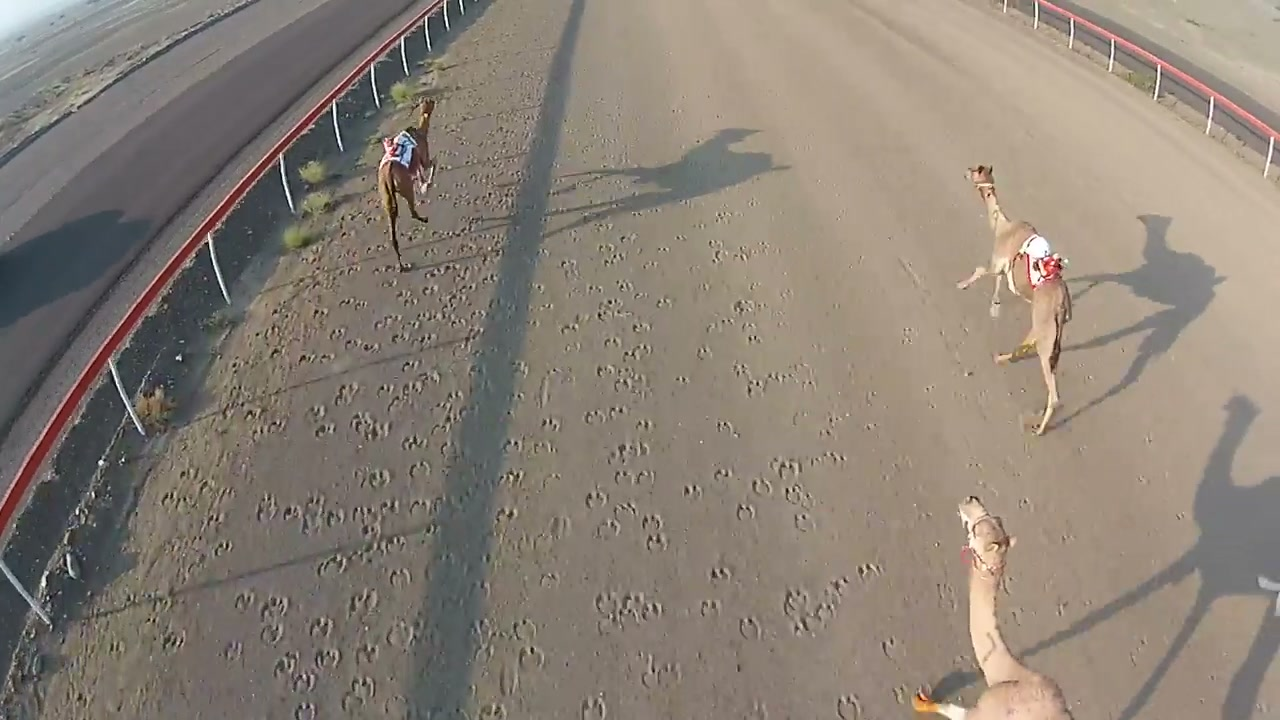animal_foot_print: (213, 213, 753, 693)
